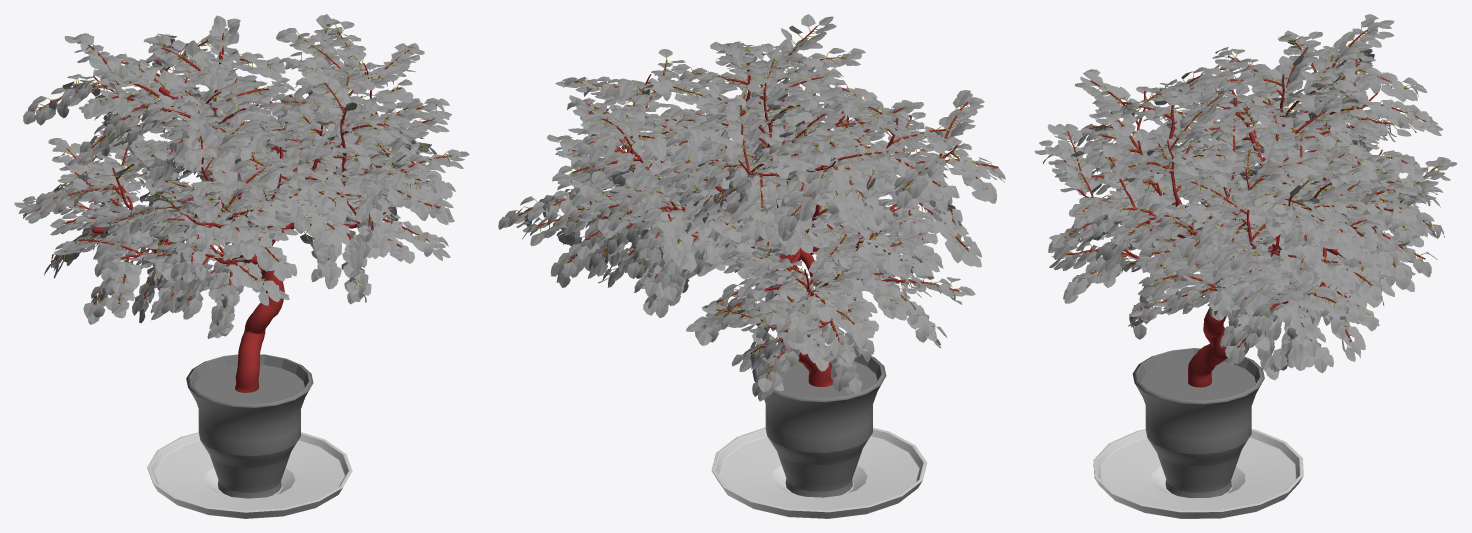
Rendered from bonsai-corona.fbx.
The picture shows the model from 3 angles, left to right: view 1: azimuth 30°, elevation 25°; view 2: azimuth 150°, elevation 25°; view 3: azimuth 270°, elevation 25°; orthographic projection. The views are drawn at different scales.
Parts seen in each view (by area): view 1: GrowFX01, Cylinder01, Line01, Plane01; view 2: GrowFX01, Line01, Cylinder01, Plane01; view 3: GrowFX01, Line01, Cylinder01, Plane01.
Boxes of the visible parts, <box> form: GrowFX01: <box>14,14,469,392</box>; Cylinder01: <box>186,354,313,498</box>; Line01: <box>147,432,352,518</box>; Plane01: <box>194,364,304,404</box>; GrowFX01: <box>498,14,1005,401</box>; Line01: <box>711,427,927,518</box>; Cylinder01: <box>752,354,886,497</box>; Plane01: <box>774,360,877,398</box>; GrowFX01: <box>1034,14,1457,387</box>; Line01: <box>1093,429,1303,518</box>; Cylinder01: <box>1132,348,1264,497</box>; Plane01: <box>1141,359,1255,400</box>.
Bounding box in the file's own units: 95.97 × 95.5 × 83.92.
